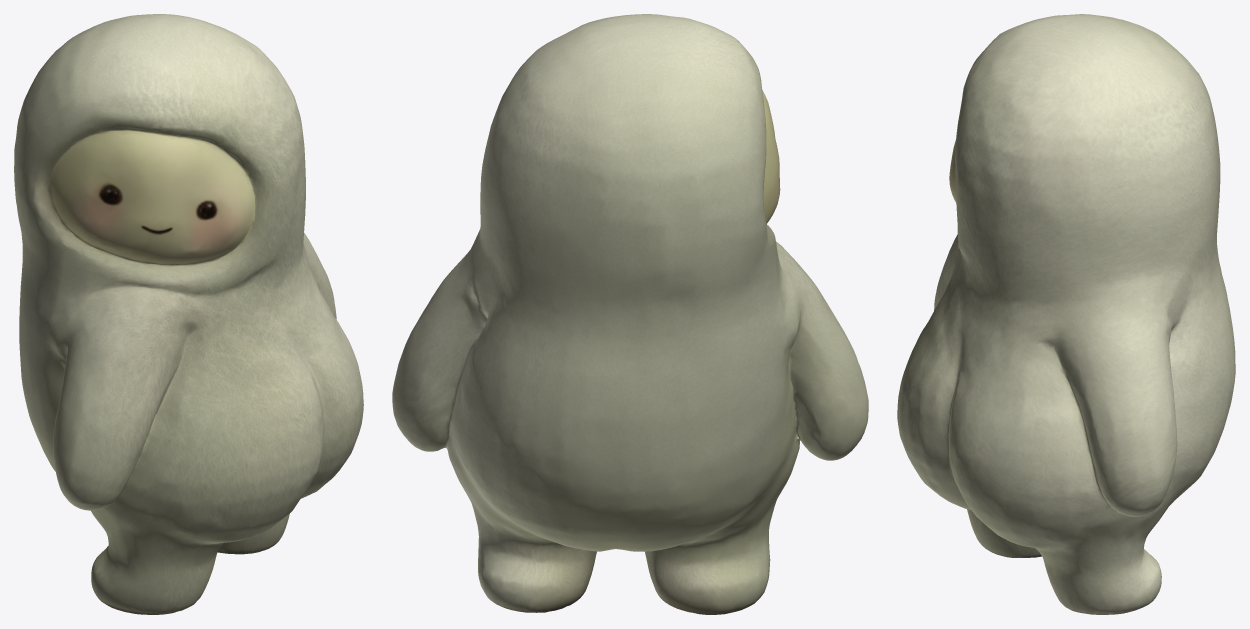
Rendered from jolly.glb.
3 views of the same model, side by side, from view 1: azimuth 30°, elevation 25°; view 2: azimuth 150°, elevation 25°; view 3: azimuth 270°, elevation 25° (orthographic). The views are drawn at different scales.
Size of the model in its own units: 0.6084 by 0.8899 by 0.5174.
1 material, 1 textured.
